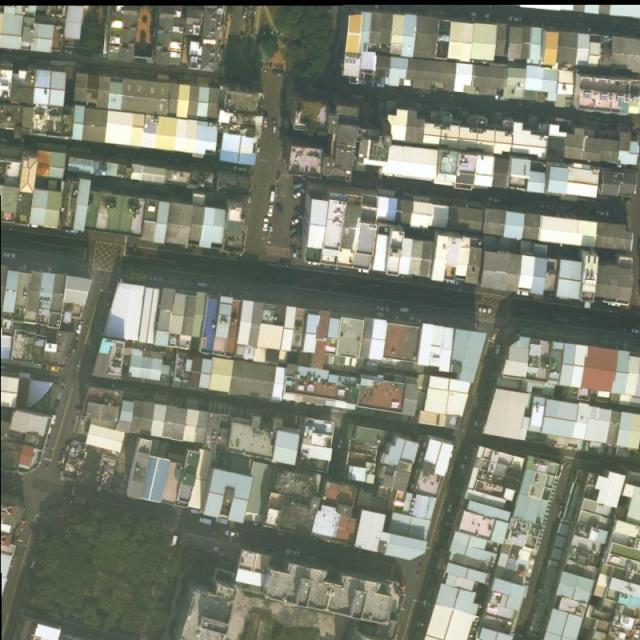vehicle: (292, 187, 306, 200), (490, 327, 502, 342), (285, 547, 301, 558), (291, 214, 304, 226), (74, 321, 84, 336), (276, 202, 286, 217), (337, 434, 346, 450), (493, 94, 509, 102), (478, 306, 492, 315), (374, 305, 389, 313), (595, 210, 610, 218), (199, 517, 212, 526), (633, 623, 640, 638), (148, 276, 163, 283), (398, 306, 411, 314), (225, 529, 238, 537), (269, 190, 277, 203), (2, 253, 16, 260), (488, 197, 502, 204), (445, 279, 459, 286), (508, 16, 522, 23), (242, 6, 250, 18), (495, 343, 502, 356), (196, 282, 209, 289), (262, 219, 269, 232), (517, 290, 530, 297), (447, 502, 454, 514), (268, 204, 274, 218), (538, 204, 551, 210), (629, 327, 640, 334), (273, 121, 278, 134), (554, 318, 566, 323), (358, 268, 370, 273), (416, 622, 426, 628)
